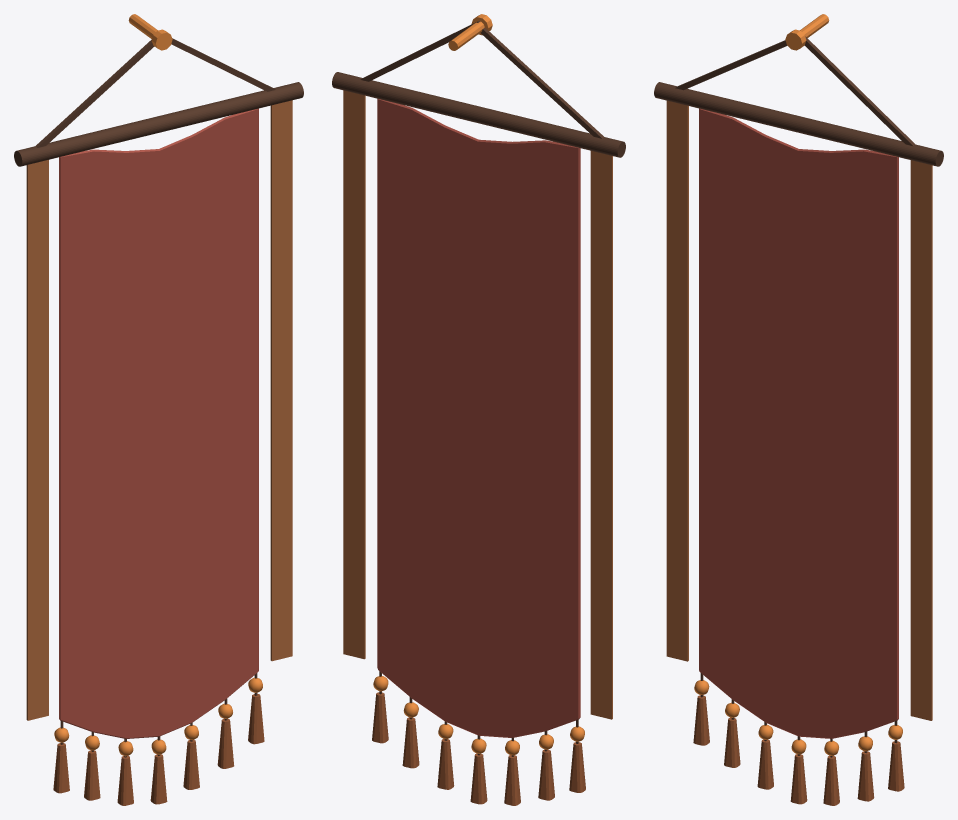
File: fbx_Banner_02.fbx
3 renders of one model, left to right at view 1: azimuth 30°, elevation 25°; view 2: azimuth 150°, elevation 25°; view 3: azimuth 330°, elevation 25°, orthographic.
Parts seen in each view (by area): view 1: Cylinder.018; view 2: Cylinder.018; view 3: Cylinder.018.
Part boxes in pixels (<box>): Cylinder.018: <box>14,14,303,805</box>; Cylinder.018: <box>332,14,625,805</box>; Cylinder.018: <box>654,14,943,805</box>.
Bounding box in the file's own units: 128 × 335 × 24.16.
